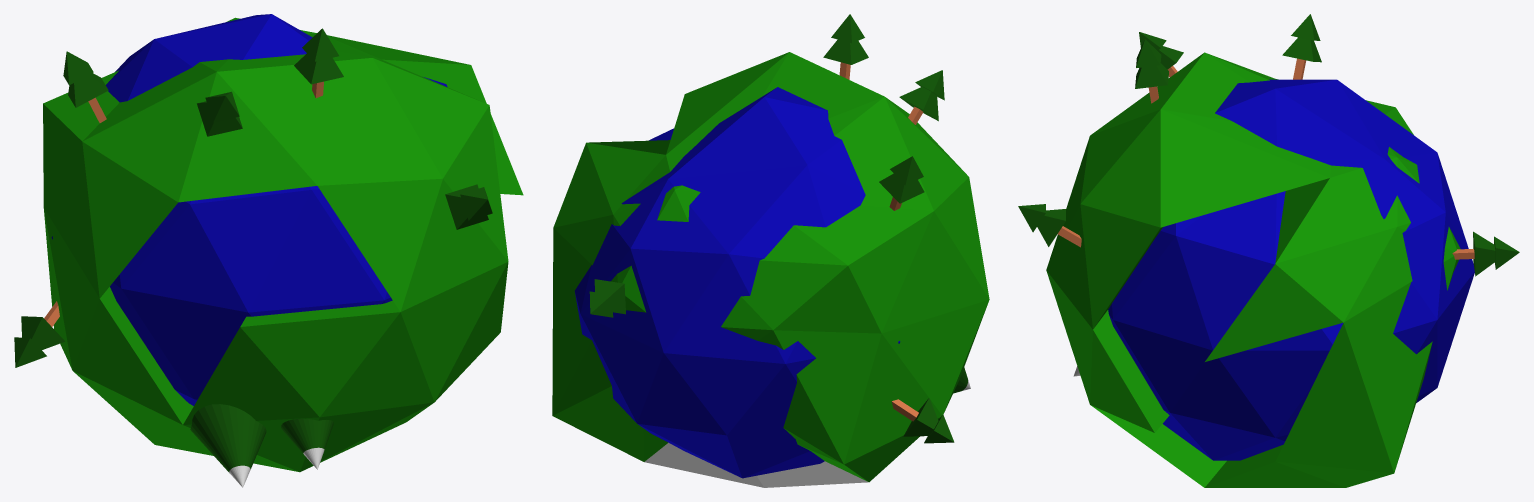
File: earth.fbx
3 views of the same model, side by side, from view 1: azimuth 30°, elevation 25°; view 2: azimuth 150°, elevation 25°; view 3: azimuth 270°, elevation 25° (orthographic). The views are drawn at different scales.
Visible parts, largest first — view 1: Icosphere.001, Icosphere, Cone.001, Cube.004, Cube.002, Cube.003, Cone, Cube.001, Cube.000; view 2: Icosphere.001, Icosphere, Cube.004, Cube.002, Cube.003, Cube.000, Cube.005; view 3: Icosphere.001, Icosphere, Cube.001, Cube.005, Cube.002, Cube.003, Cube.000.
Boxes of the visible parts, left/top/right/bottom form: Icosphere.001: left=43, top=17, right=523, bottom=472; Icosphere: left=51, top=14, right=447, bottom=405; Cone.001: left=190, top=404, right=266, bottom=487; Cube.004: left=14, top=301, right=64, bottom=367; Cube.002: left=294, top=28, right=343, bottom=98; Cube.003: left=63, top=51, right=108, bottom=122; Cone: left=281, top=418, right=333, bottom=469; Cube.001: left=445, top=184, right=492, bottom=229; Cube.000: left=197, top=91, right=242, bottom=136; Icosphere.001: left=552, top=52, right=989, bottom=487; Icosphere: left=574, top=87, right=900, bottom=478; Cube.004: left=891, top=398, right=954, bottom=443; Cube.002: left=823, top=14, right=868, bottom=79; Cube.003: left=879, top=156, right=924, bottom=210; Cube.000: left=899, top=70, right=944, bottom=124; Cube.005: left=589, top=279, right=625, bottom=317; Icosphere.001: left=1046, top=52, right=1460, bottom=487; Icosphere: left=1108, top=79, right=1474, bottom=460; Cube.001: left=1018, top=204, right=1081, bottom=247; Cube.005: left=1452, top=231, right=1519, bottom=276; Cube.002: left=1135, top=39, right=1168, bottom=103; Cube.003: left=1282, top=14, right=1321, bottom=79; Cube.000: left=1139, top=32, right=1183, bottom=77.
Bounding box in the file's own units: 401 × 413 × 438.
